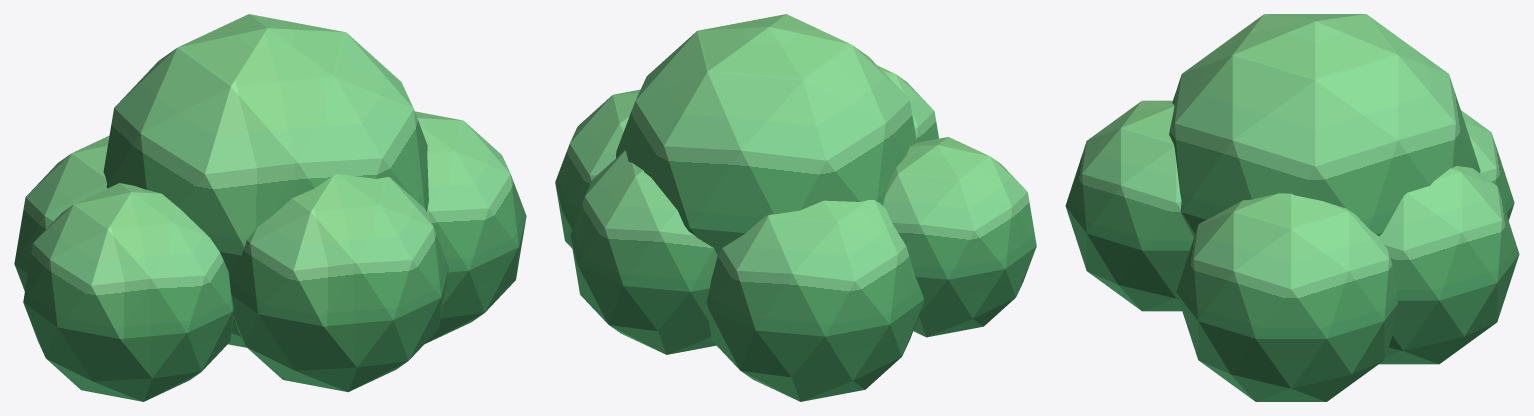
Rendered from tree1.glb.
3 views of the same model, side by side, from view 1: azimuth 30°, elevation 25°; view 2: azimuth 150°, elevation 25°; view 3: azimuth 270°, elevation 25° (orthographic). The views are drawn at different scales.
Visible parts, largest first — view 1: Icosphere.004; view 2: Icosphere.004; view 3: Icosphere.004.
Part boxes in pixels (bbox=[...]): Icosphere.004: bbox=[14, 14, 526, 401]; Icosphere.004: bbox=[555, 14, 1036, 401]; Icosphere.004: bbox=[1065, 14, 1519, 401].
Bounding box in the file's own units: 20.58 × 14.26 × 17.66.
Materials: 1 (1 with a texture image).
